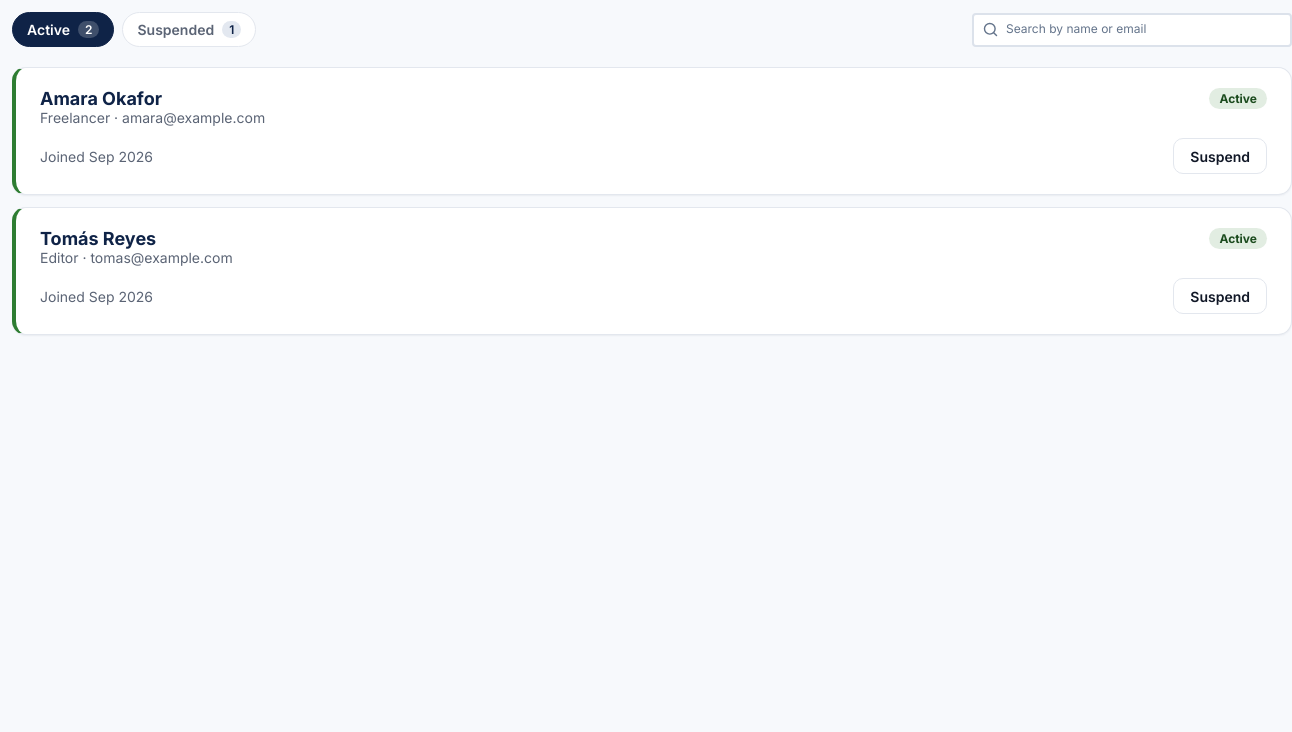
AccountList › needs a reason to suspend, then can reactivate
Click the 1st button "Suspend": (1220, 156) [1173,138,1267,174]
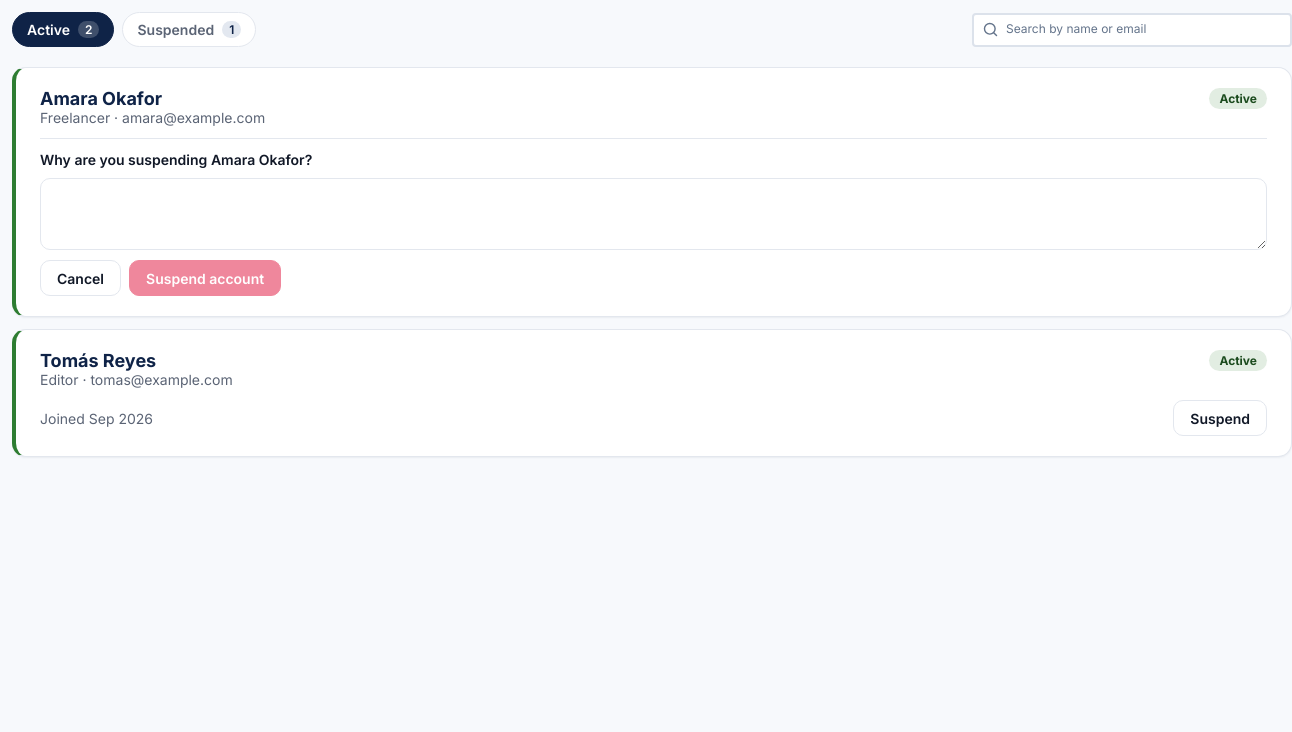
Check: the button "Suspend account" is disabled, box [129,260,281,296]
In the text box labelled "Why are you suspending Amara Okafor?": (654, 214) [40,178,1267,250], type "Spam pitches"
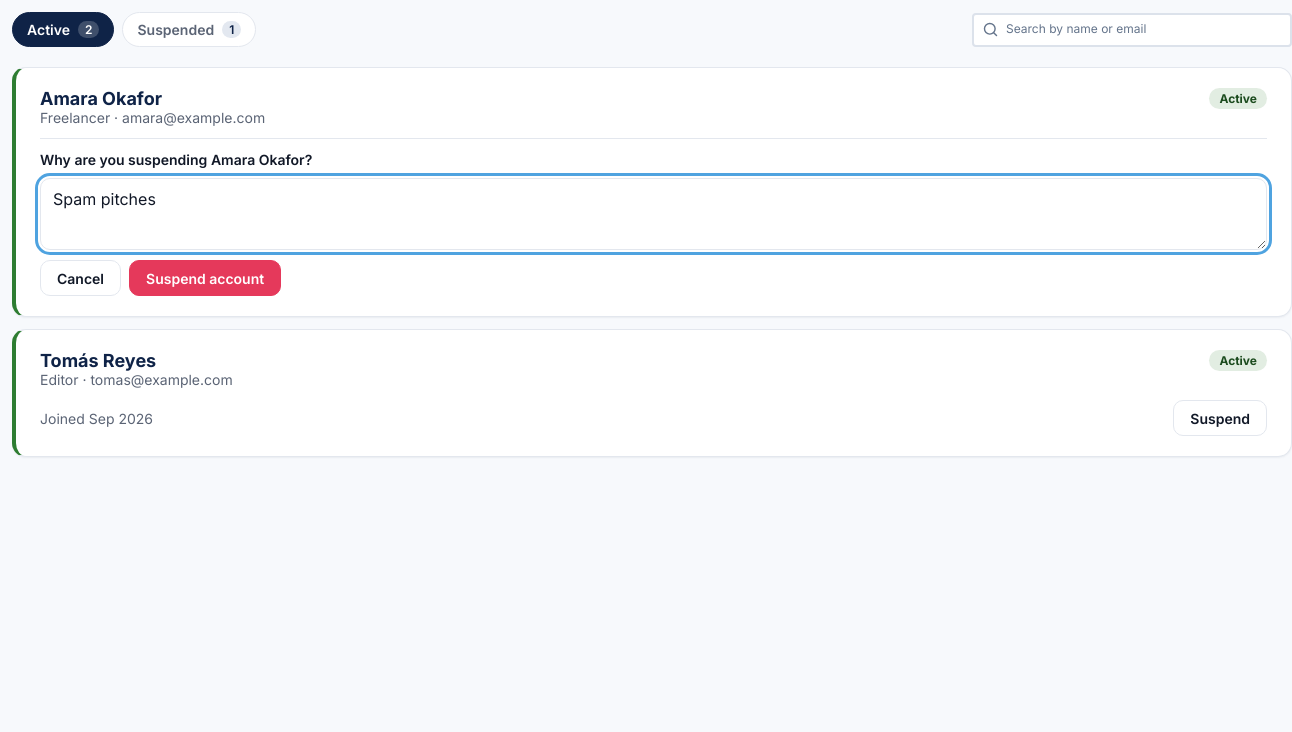
Click the button "Suspend account": (205, 278) [129,260,281,296]
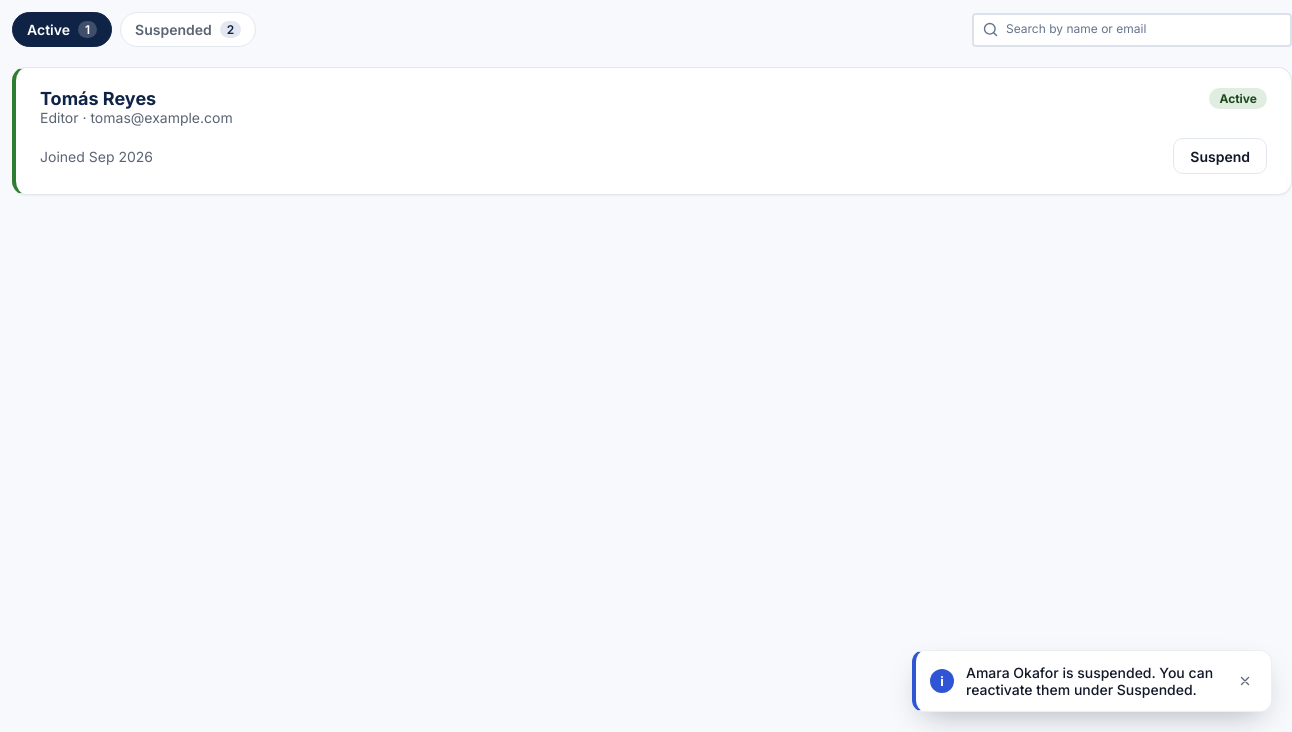
Check: the text "Amara Okafor is suspended" is shown, box [966,664,1213,698]
Click the button "Suspended 2": (188, 30) [120,12,256,47]
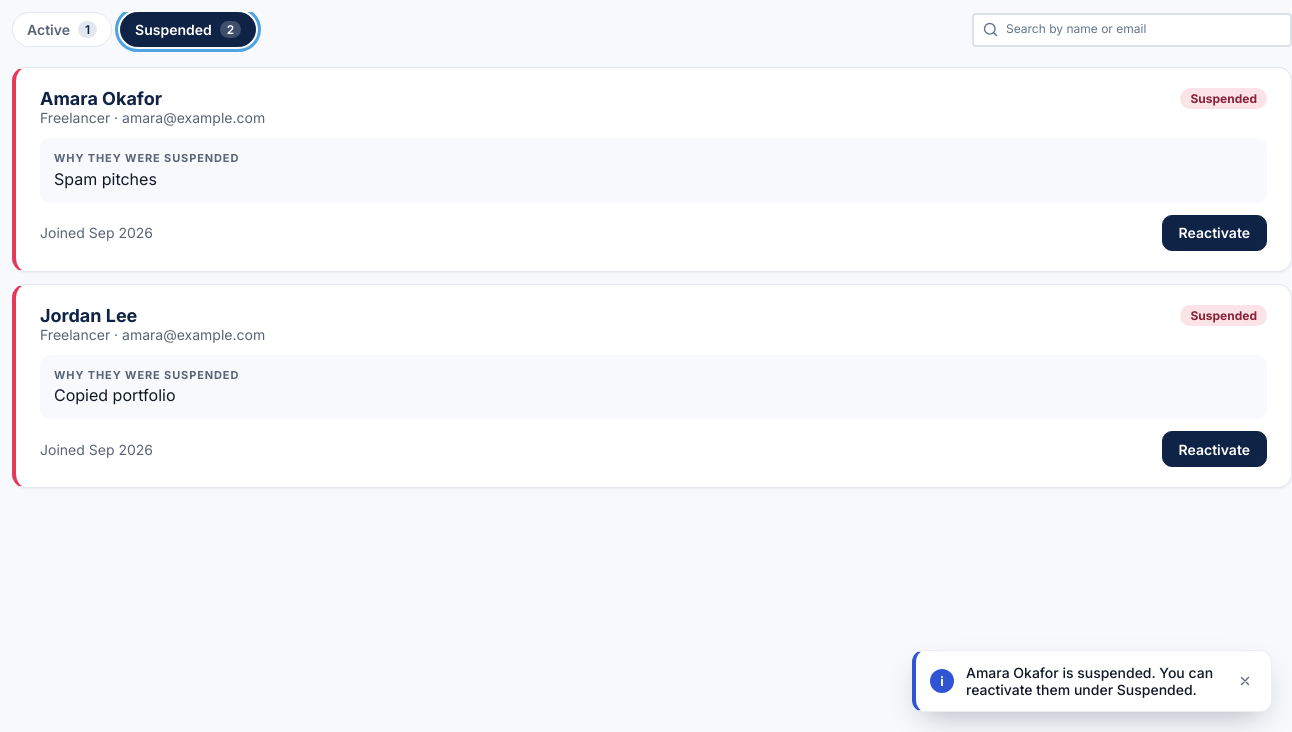
Check: the text "Spam pitches" is shown, box [54,168,157,188]
Click the 1st button "Reactivate": (1214, 232) [1162,214,1267,250]
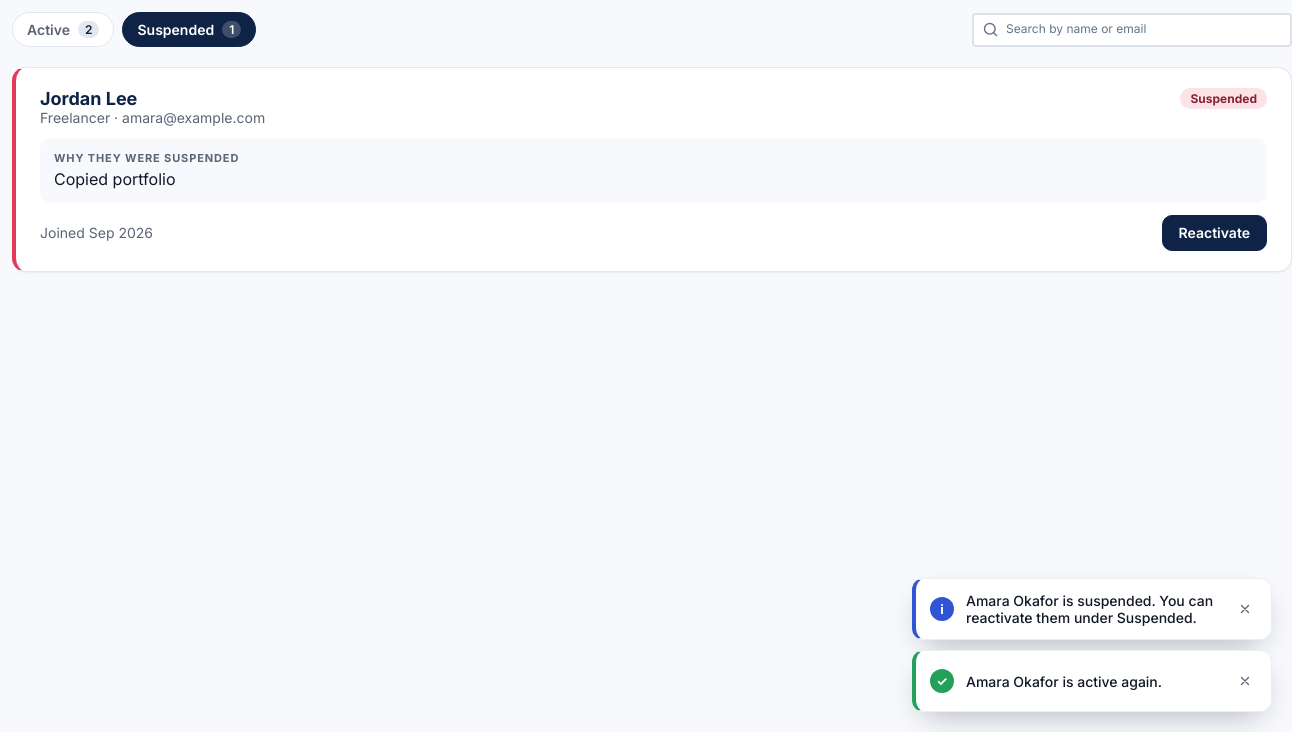
Check: the text "Amara Okafor is active again." is shown, box [966,672,1162,690]
